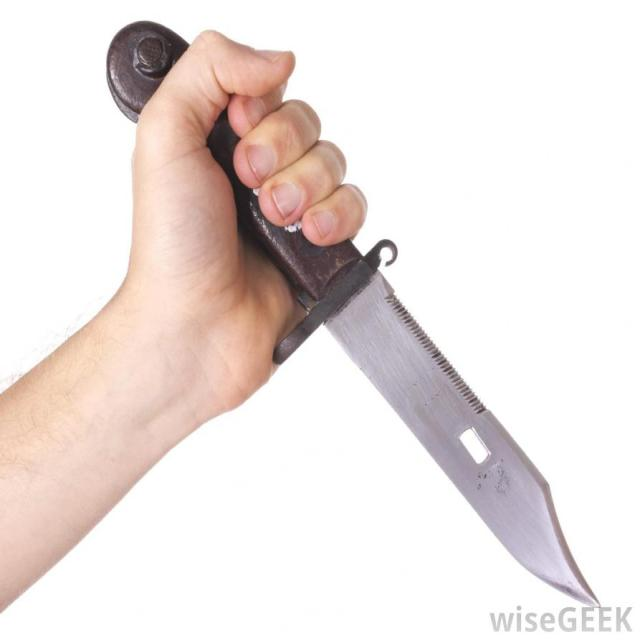knife: (104, 22, 604, 616)
